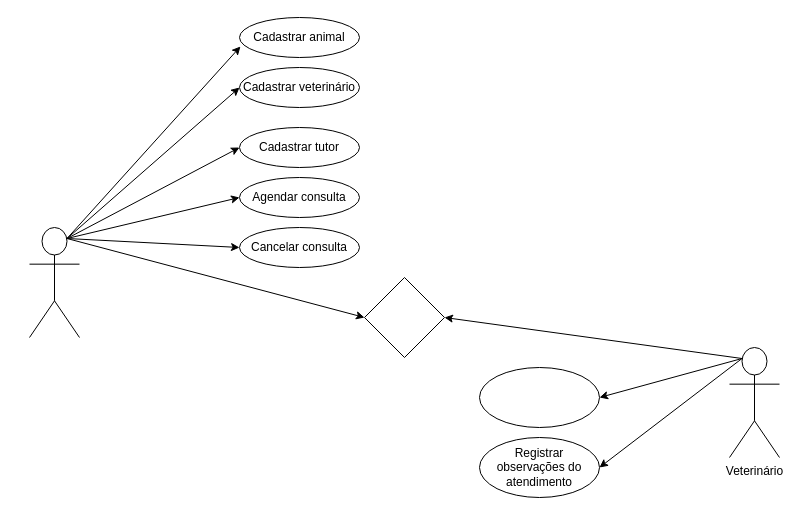
This 800x515 diagram has some shape labels left out. The centre of each missing label's shape, as x and y in pixels:
"Consultar agenda" goes at (x=404, y=317).
"Mudar situação da consulta para realizada" goes at (x=539, y=397).
"Recepcionista" goes at (x=54, y=282).
